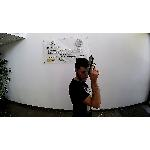Pistol: (83, 53, 105, 79)
